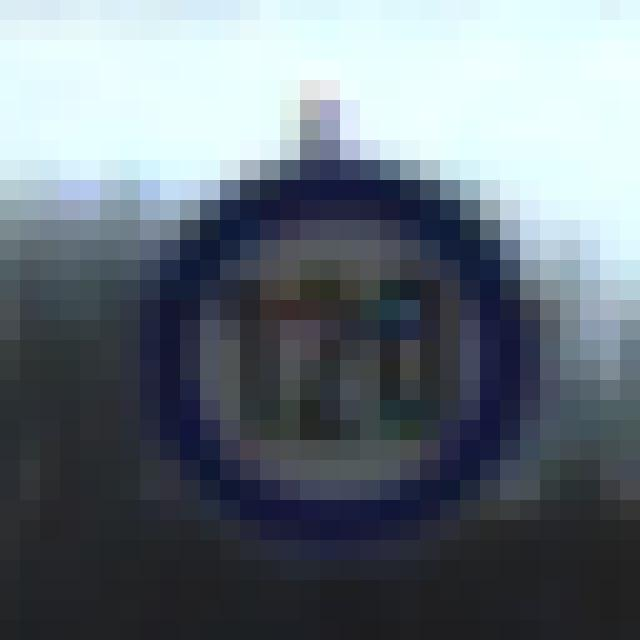SPEED LIMIT 120: (133, 150, 557, 538)
